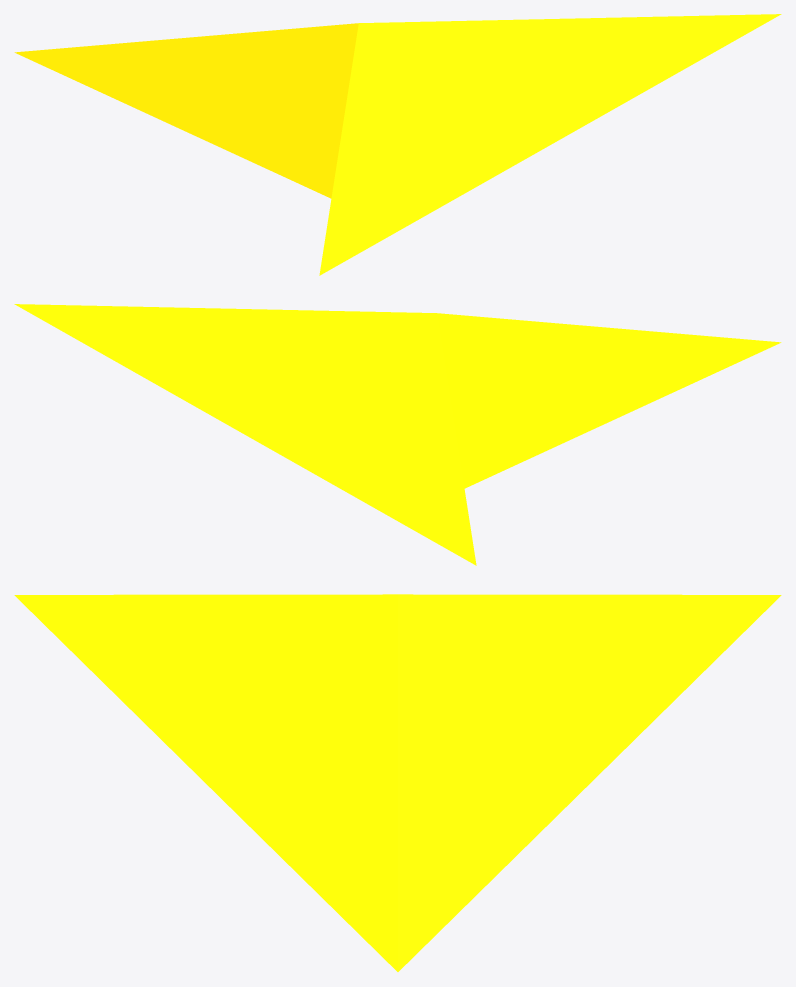
File: arrow.dae
3 renders of one model, top to bottom at view 1: azimuth 30°, elevation 25°; view 2: azimuth 150°, elevation 25°; view 3: azimuth 270°, elevation 25°, orthographic. The views are drawn at different scales.
Parts seen in each view (by area): view 1: arrow_model; view 2: arrow_model; view 3: arrow_model.
Boxes of the visible parts, left/top/right/bottom form: arrow_model: left=14, top=14, right=781, bottom=275; arrow_model: left=14, top=304, right=781, bottom=565; arrow_model: left=14, top=594, right=781, bottom=971.
Size of the model in its own units: 0.342 by 0.294 by 0.1.
